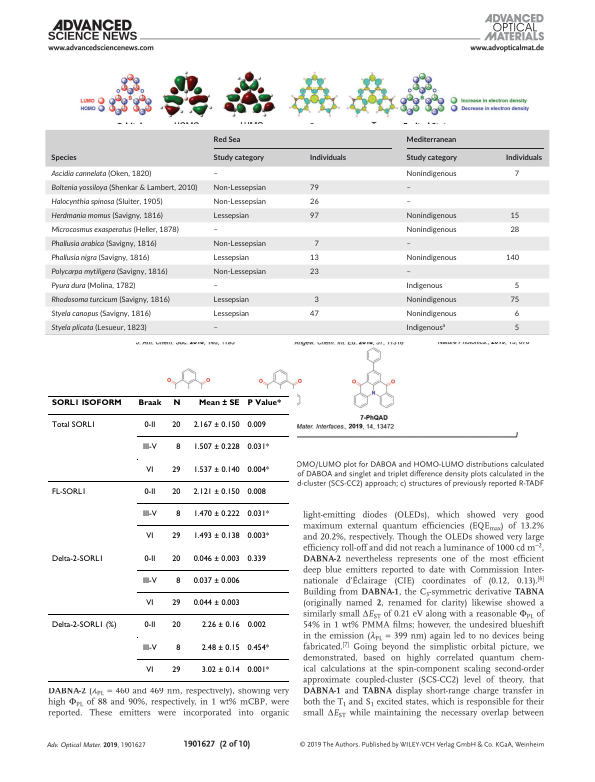borderless: (43, 129, 550, 336), (47, 394, 289, 681)
cell: (50, 182, 197, 194), (50, 224, 179, 236), (50, 294, 170, 306), (50, 266, 168, 278), (50, 196, 163, 208), (50, 210, 163, 222), (50, 238, 157, 250), (50, 168, 151, 180), (50, 308, 151, 320), (50, 252, 149, 264), (50, 322, 147, 334), (50, 280, 135, 292), (50, 621, 117, 631), (405, 133, 456, 146), (212, 182, 266, 194), (212, 196, 266, 208), (212, 238, 266, 250), (212, 266, 266, 278), (212, 152, 264, 164), (405, 152, 457, 164), (405, 168, 457, 180), (405, 210, 457, 222), (405, 224, 457, 236), (405, 252, 457, 264), (405, 294, 457, 306), (405, 308, 457, 320), (50, 554, 104, 564), (405, 321, 445, 334), (50, 399, 122, 406), (192, 443, 240, 453), (192, 465, 240, 475), (192, 487, 240, 497), (192, 509, 240, 519), (192, 532, 240, 542), (192, 554, 240, 564), (192, 576, 240, 586), (405, 280, 443, 292), (212, 210, 249, 222), (212, 252, 249, 264), (212, 294, 249, 306), (212, 308, 249, 320), (192, 421, 240, 430), (192, 599, 240, 608), (50, 421, 96, 430), (200, 621, 240, 631), (200, 643, 240, 653), (200, 665, 240, 675), (212, 133, 241, 146), (50, 487, 87, 497), (50, 152, 77, 164), (308, 154, 346, 162), (504, 154, 542, 162), (197, 399, 240, 406), (246, 399, 281, 406), (246, 443, 270, 453), (246, 465, 270, 475), (246, 509, 270, 519), (246, 532, 270, 542), (246, 643, 270, 653), (246, 665, 270, 675), (246, 487, 266, 497), (246, 554, 266, 564), (246, 621, 266, 631), (246, 421, 266, 430), (137, 399, 162, 406), (141, 443, 157, 453), (141, 509, 157, 519), (141, 576, 157, 586), (141, 643, 157, 653), (308, 182, 319, 194), (308, 196, 319, 208), (308, 210, 319, 222), (143, 487, 156, 497), (143, 554, 156, 564), (143, 621, 156, 631), (143, 421, 156, 430), (504, 255, 519, 262), (171, 465, 181, 475), (171, 487, 181, 497), (171, 532, 181, 542), (171, 554, 181, 564), (171, 621, 181, 631), (171, 665, 181, 675), (171, 421, 181, 430), (145, 465, 154, 475), (145, 532, 154, 542), (171, 599, 181, 608), (145, 665, 154, 675), (145, 599, 154, 608), (308, 255, 319, 262), (308, 269, 319, 276), (308, 311, 319, 318), (513, 308, 519, 320), (509, 213, 519, 220), (509, 227, 519, 234), (509, 297, 519, 304), (172, 399, 181, 406), (175, 443, 181, 453), (175, 509, 181, 519), (175, 576, 181, 586), (175, 643, 181, 653), (212, 171, 218, 178), (513, 171, 519, 178), (405, 185, 411, 192), (405, 199, 411, 206), (212, 227, 218, 234), (313, 241, 319, 248), (405, 241, 411, 248), (405, 269, 411, 276), (212, 283, 218, 290), (513, 283, 519, 290), (313, 297, 319, 304), (212, 325, 218, 332), (513, 325, 519, 332)
